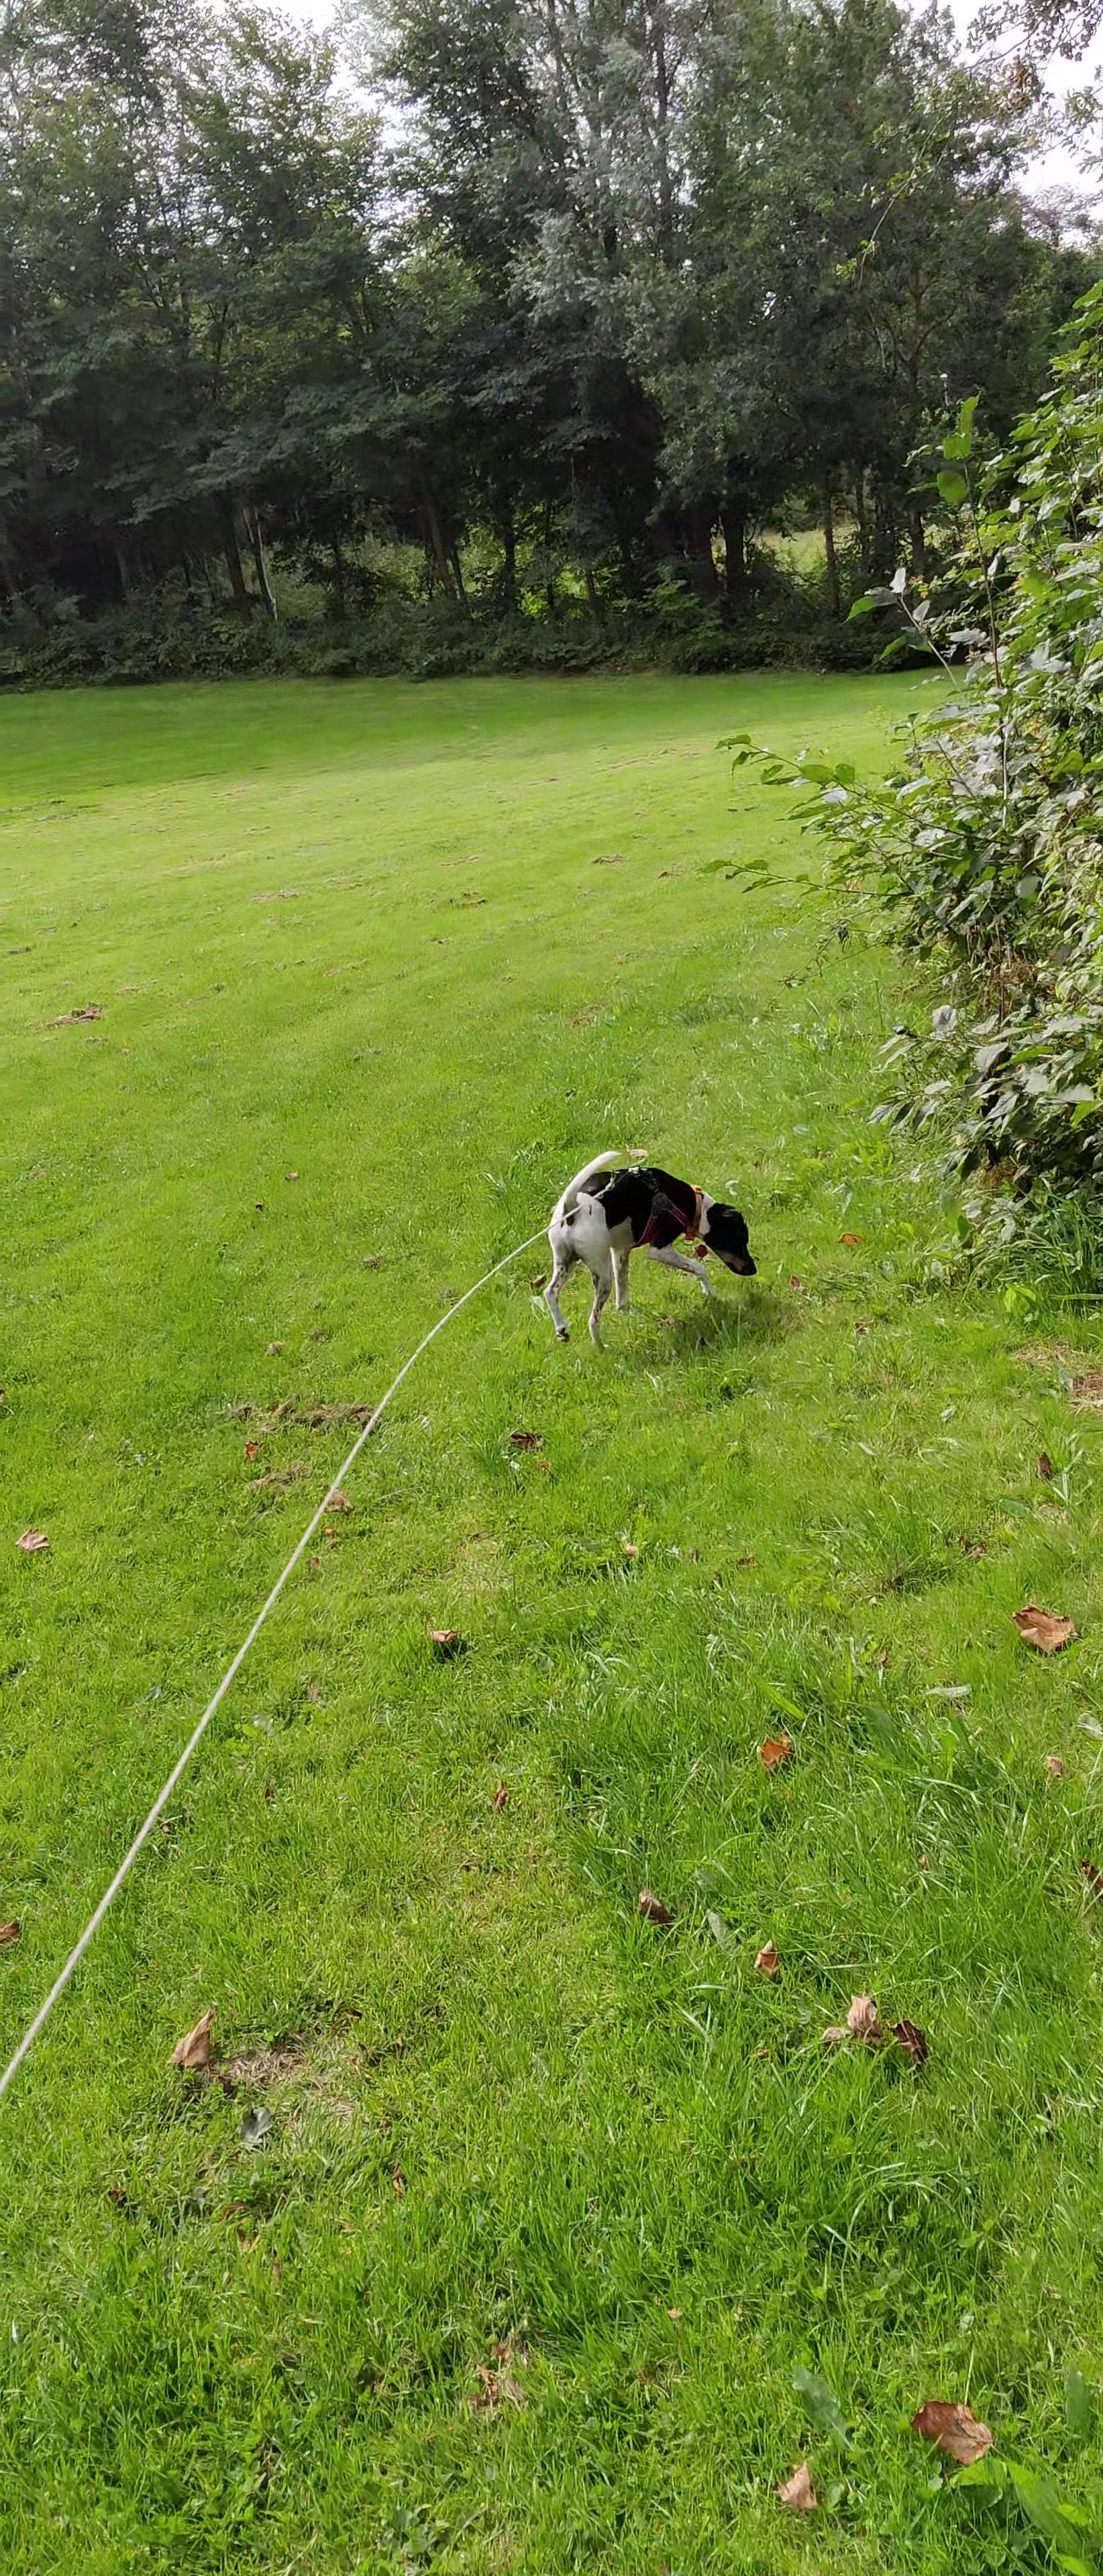Dog: (538, 1145, 763, 1355)
